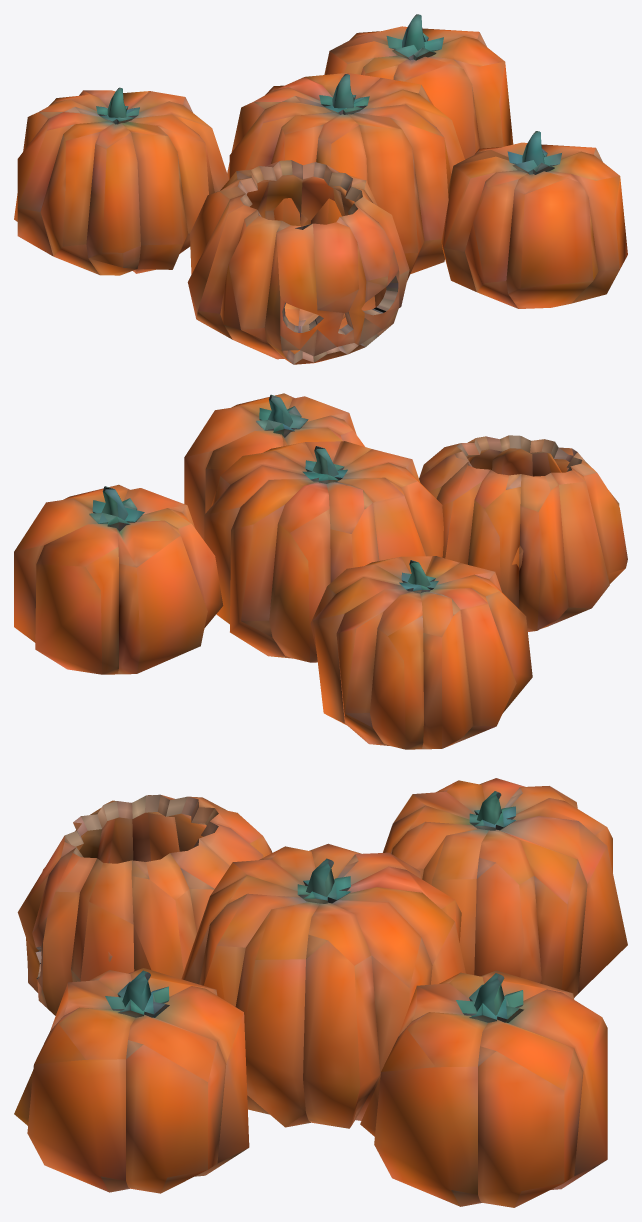
File: pumpkin-patch.lod.glb
The picture shows the model from 3 angles, top to bottom: view 1: azimuth 30°, elevation 25°; view 2: azimuth 150°, elevation 25°; view 3: azimuth 270°, elevation 25°; orthographic projection. The views are drawn at different scales.
Visible parts, largest first — view 1: pumpkinLarge; view 2: pumpkinLarge; view 3: pumpkinLarge.
Boxes of the visible parts, <box> form: pumpkinLarge: <box>14,14,627,364</box>; pumpkinLarge: <box>14,393,627,749</box>; pumpkinLarge: <box>14,778,627,1207</box>.
Bounding box in the file's own units: 2.26 × 0.8566 × 2.
1 material, 1 textured.
